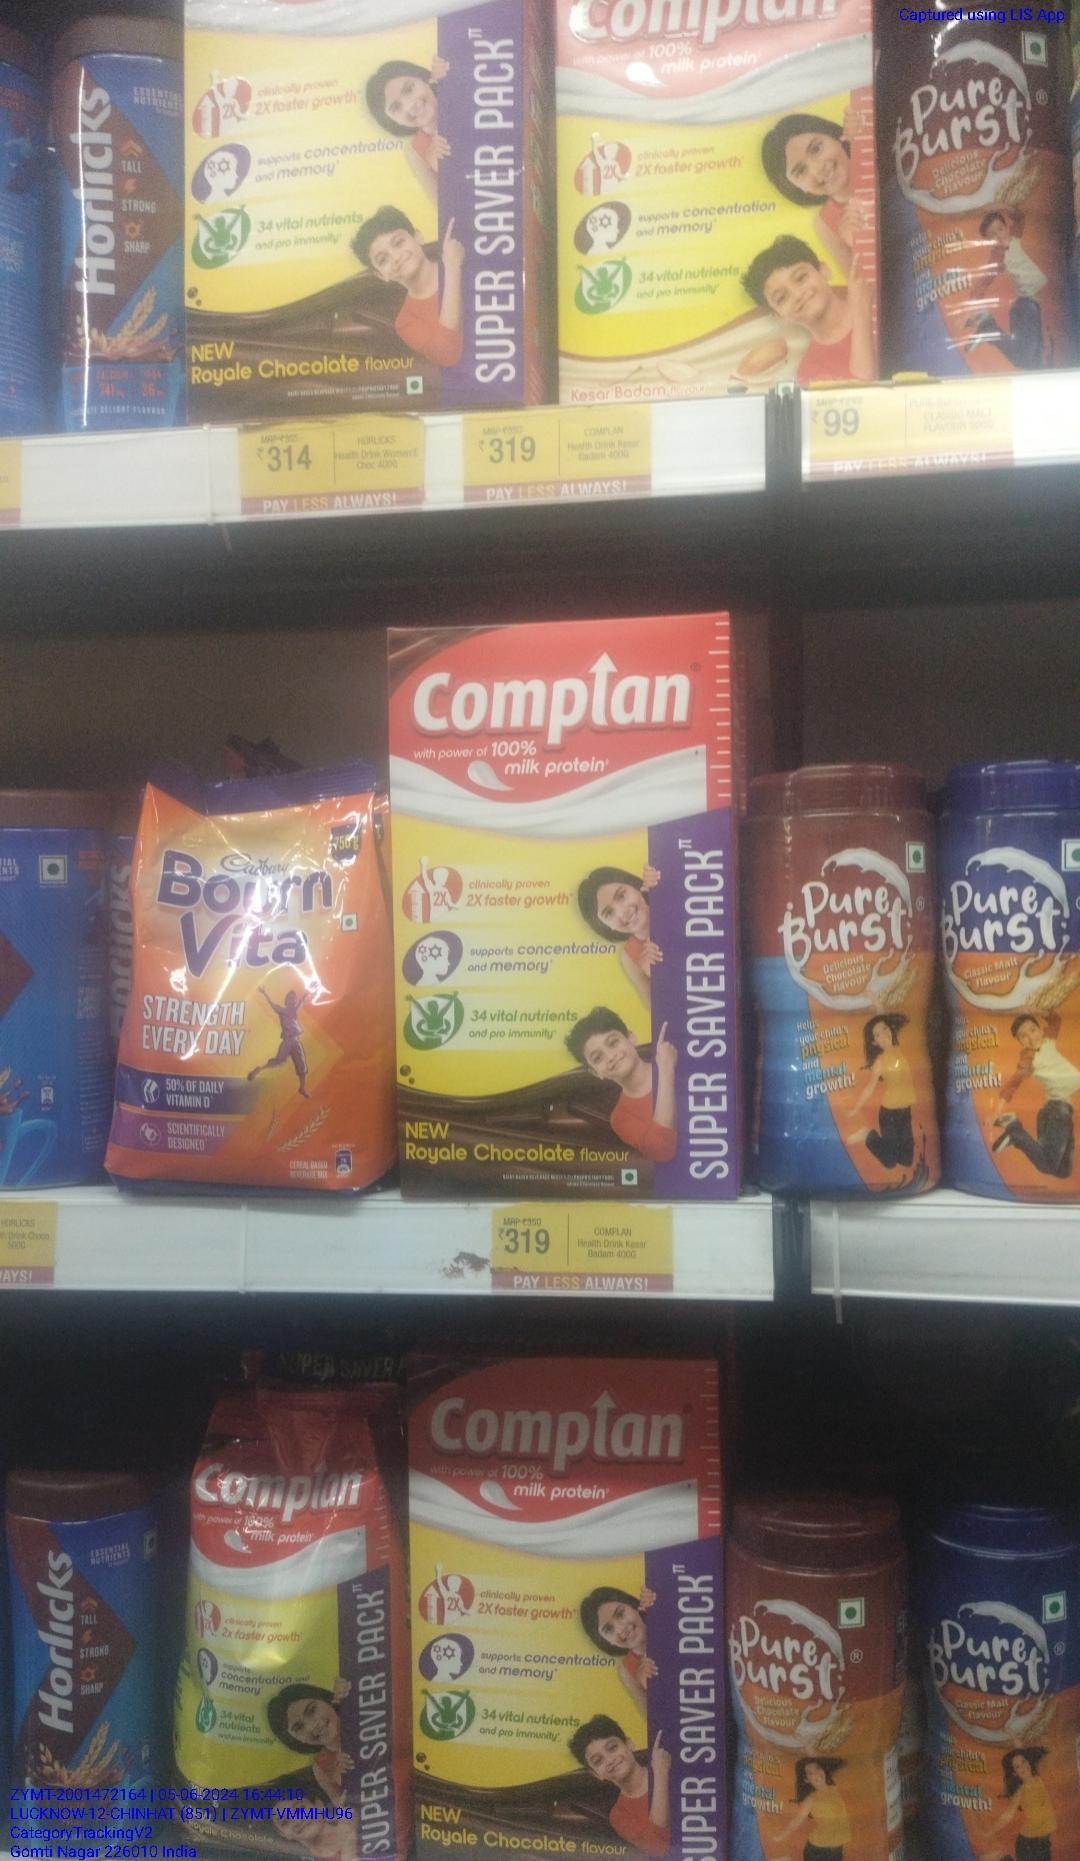BOURN_VITA_750_G_POUCH: (123, 778, 369, 1191)
COMPLAN_CHOCOLATE_1_KG_PACK: (379, 610, 741, 1185), (400, 1342, 720, 1861), (194, 0, 525, 397)
COMPLAN_KESAR_BADAM_500_GMS_PACK: (561, 0, 876, 389)
COMPLAN_RC_POUCH_700_GMS_12: (180, 1357, 397, 1861)
HORLICK_CHOCOLATE_500_G_JAR: (45, 0, 183, 437), (0, 1459, 150, 1853)
